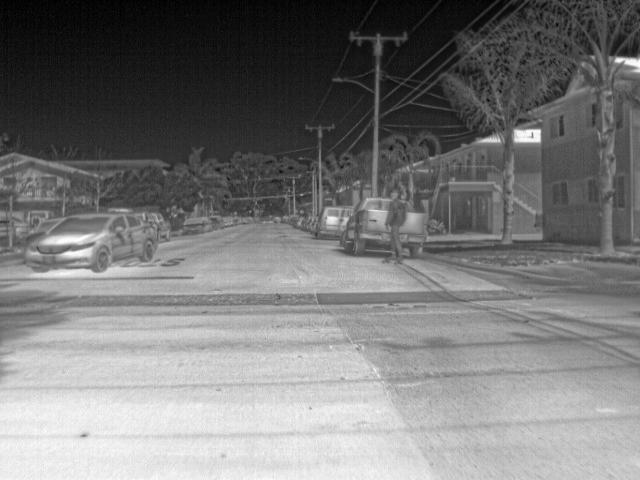car: (24, 212, 159, 272), (341, 196, 385, 261), (316, 206, 354, 241), (408, 197, 429, 257), (28, 216, 64, 237), (146, 211, 171, 241), (182, 216, 212, 234), (27, 207, 49, 225), (306, 213, 319, 232), (298, 212, 312, 229), (14, 218, 27, 236), (213, 213, 227, 228), (0, 218, 11, 237), (287, 213, 301, 227), (281, 213, 293, 225), (225, 214, 237, 226), (270, 213, 282, 224), (244, 215, 256, 226), (235, 215, 247, 226)
person: (384, 190, 406, 259)
